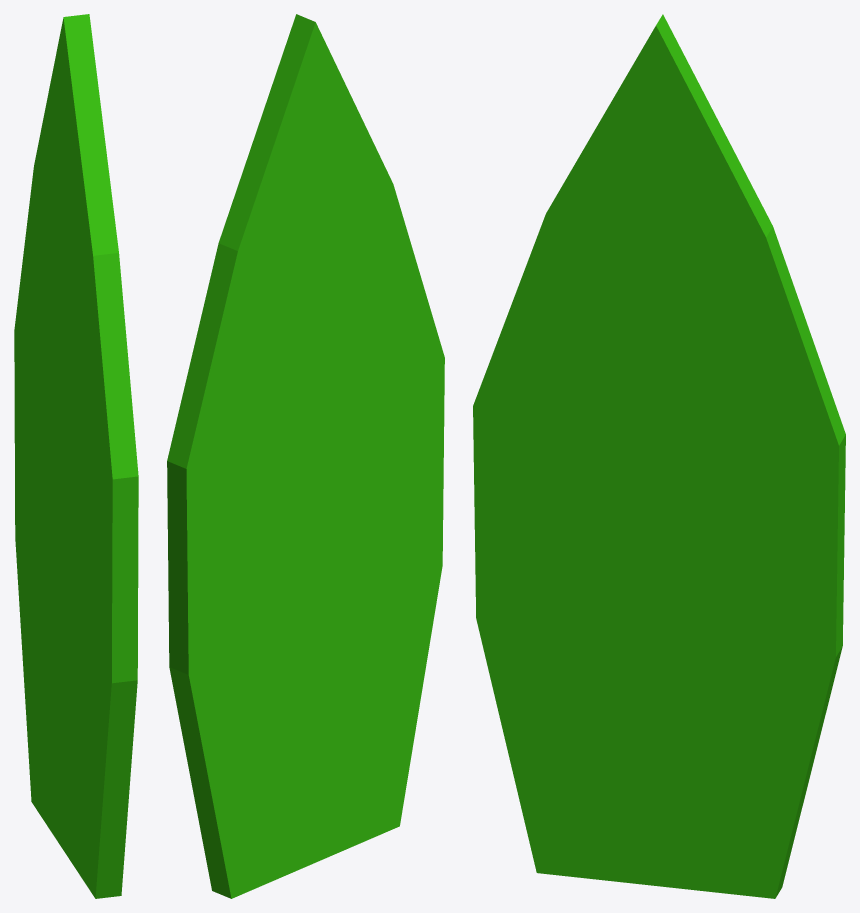
The model's file is Rigged Grass Export 6.fbx.
The picture shows the model from 3 angles, left to right: view 1: azimuth 30°, elevation 25°; view 2: azimuth 150°, elevation 25°; view 3: azimuth 270°, elevation 25°; orthographic projection. The views are drawn at different scales.
Parts seen in each view (by area): view 1: Grass 3 Right Left 7; view 2: Grass 3 Right Left 7; view 3: Grass 3 Right Left 7.
Part boxes in pixels (x1=…): Grass 3 Right Left 7: x1=14, y1=14, x2=138, y2=898; Grass 3 Right Left 7: x1=167, y1=14, x2=444, y2=898; Grass 3 Right Left 7: x1=473, y1=14, x2=845, y2=898.
Size of the model in its own units: 43.04 by 338 by 133.
